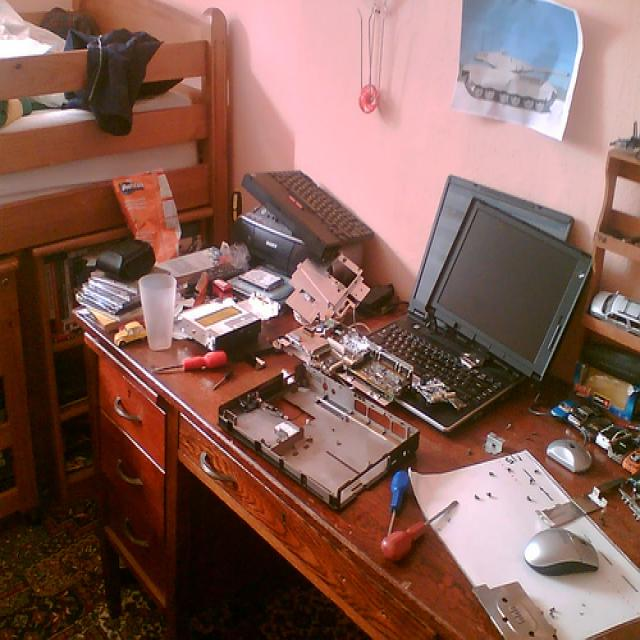Vehicle: (590, 291, 639, 335)
